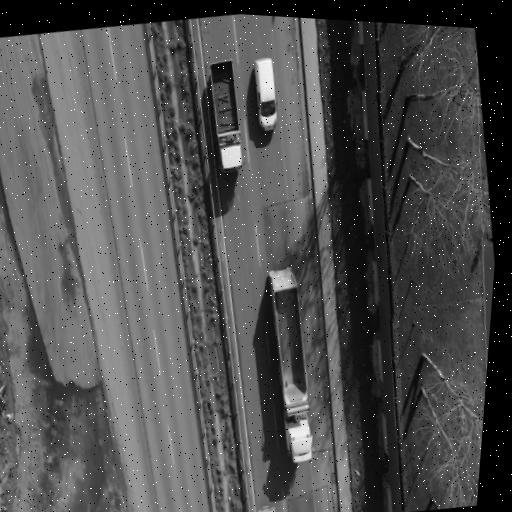car: (255, 57, 277, 129)
truck: (270, 267, 312, 461), (210, 59, 242, 170), (258, 506, 276, 511)
